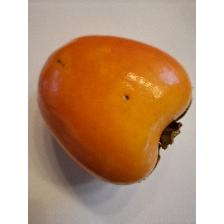Kaki: (32, 31, 196, 188)
